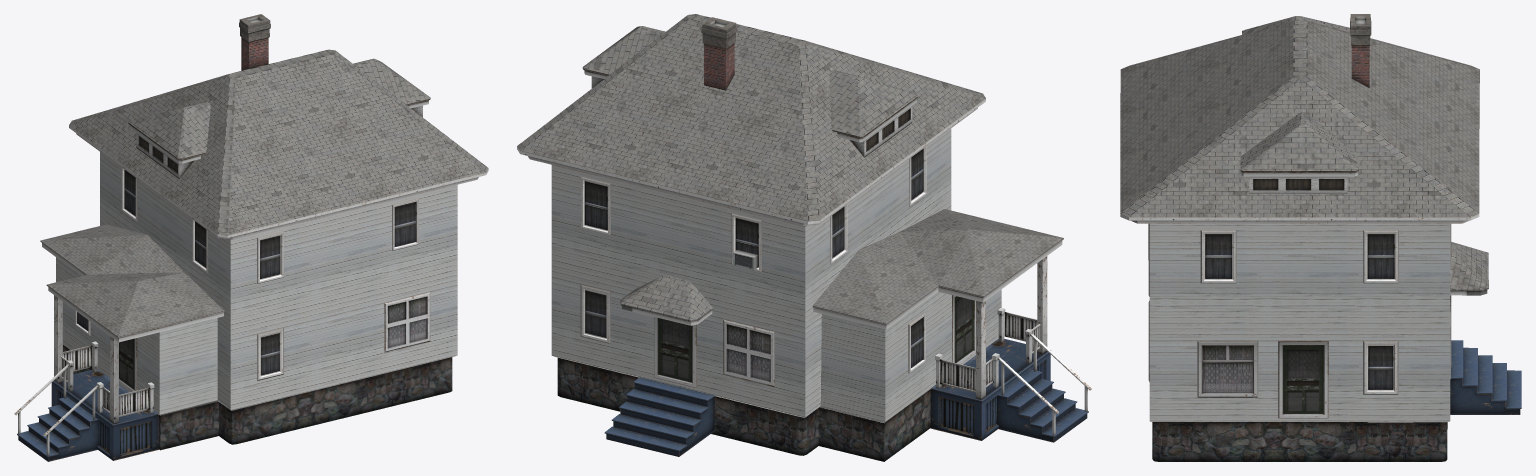
Rendered from farm_house_ver1.glb.
3 renders of one model, left to right at view 1: azimuth 30°, elevation 25°; view 2: azimuth 150°, elevation 25°; view 3: azimuth 270°, elevation 25°, orthographic. The views are drawn at different scales.
Visible parts, largest first — view 1: house; view 2: house; view 3: house.
Part boxes in pixels (box(x1,y1,x2,y2)): house: box(14, 14, 488, 461); house: box(517, 14, 1091, 461); house: box(1120, 14, 1521, 461).
Bounding box in the file's own units: 1.24 × 0.976 × 0.9313.
3 materials, 3 textured.
